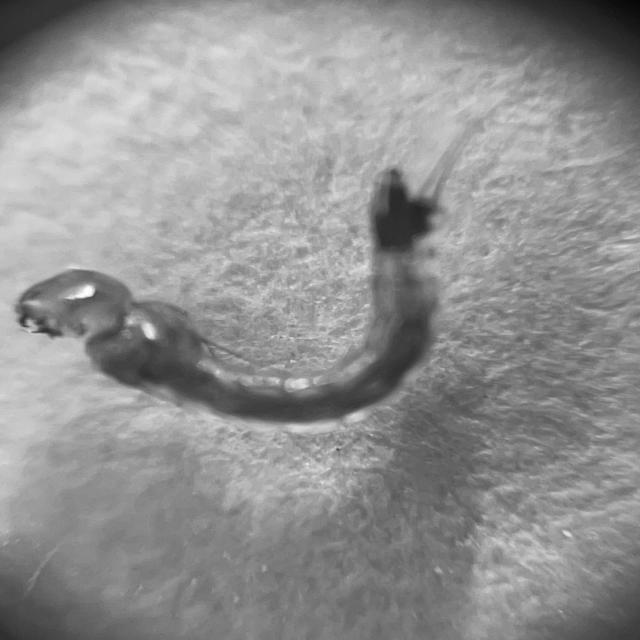larvas: (15, 168, 448, 434)
